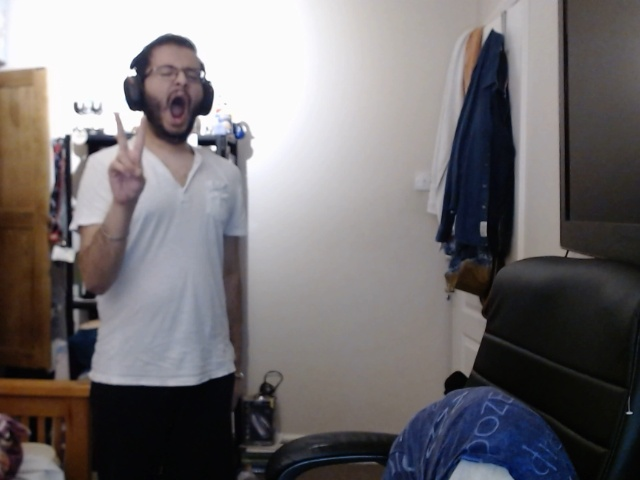Peace: (101, 111, 159, 210)
